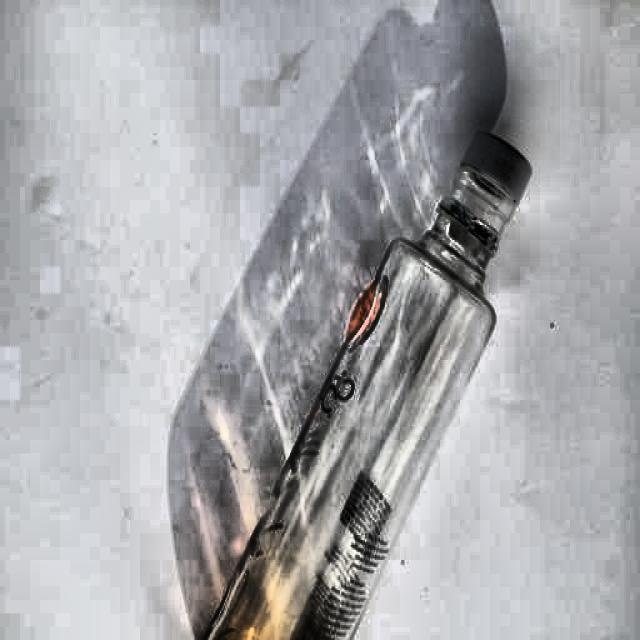glass: (207, 121, 532, 640)
